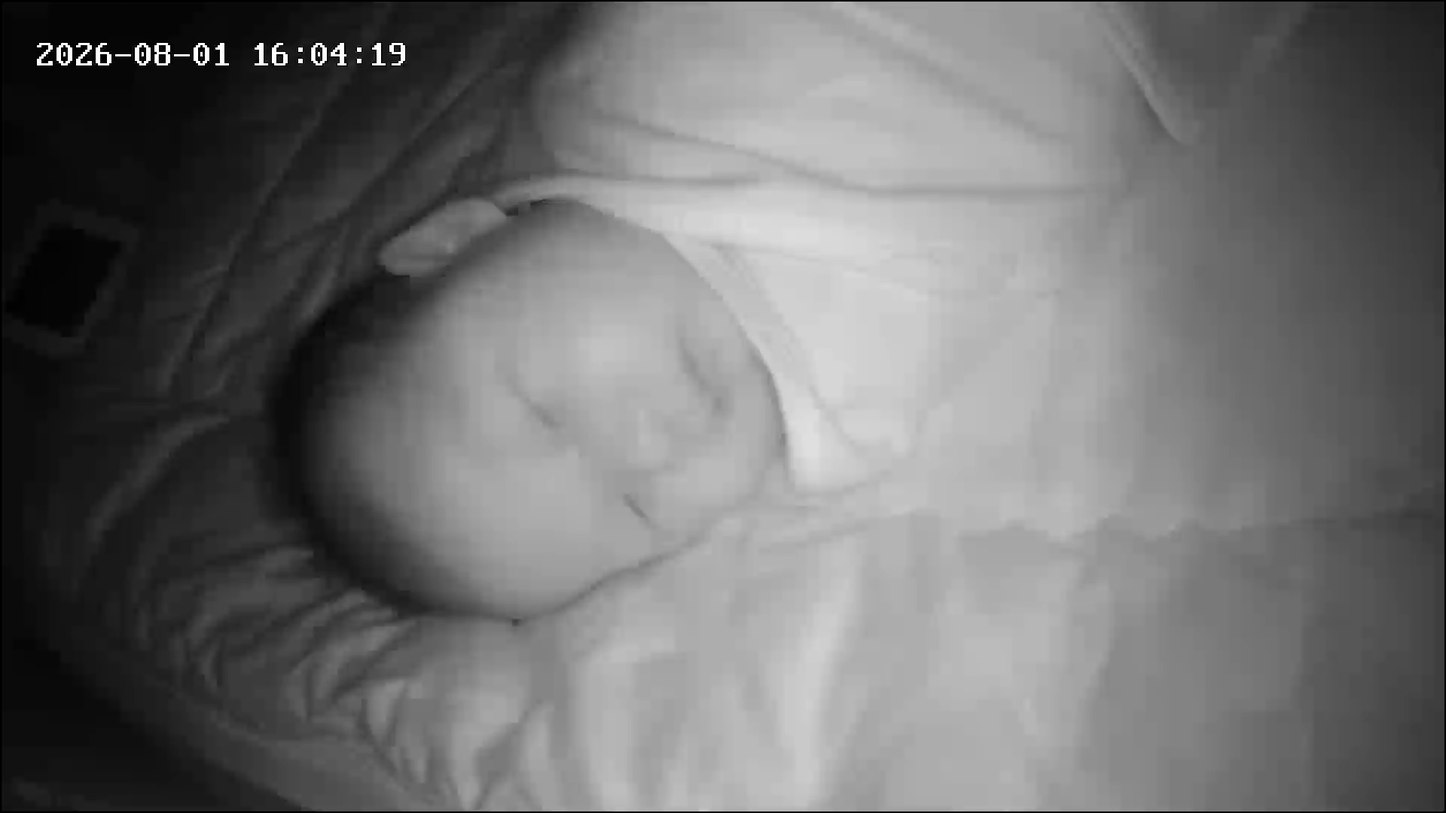baby: (263, 3, 1213, 675)
baby_face: (255, 187, 810, 641)
